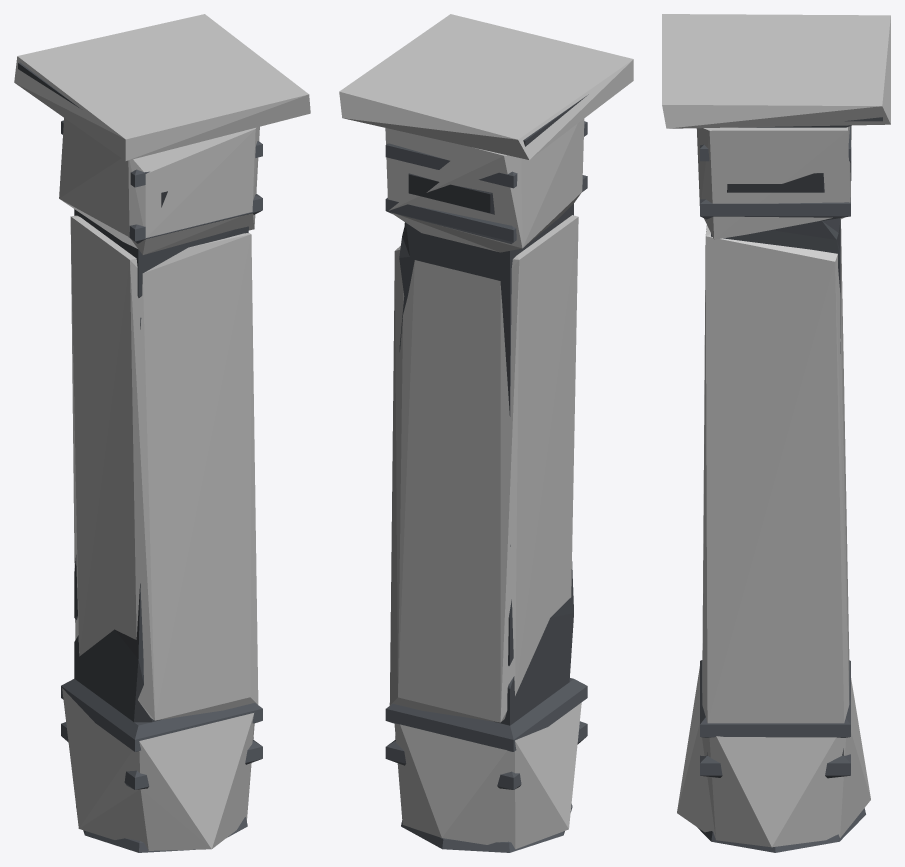
Rendered from SM_Bld_Pillar_01a.fbx.
3 renders of one model, left to right at view 1: azimuth 30°, elevation 25°; view 2: azimuth 150°, elevation 25°; view 3: azimuth 270°, elevation 25°, orthographic. The views are drawn at different scales.
Parts seen in each view (by area): view 1: SM_Bld_Pillar_01a_ConvexHulls, SM_Bld_Pillar_01a; view 2: SM_Bld_Pillar_01a_ConvexHulls, SM_Bld_Pillar_01a; view 3: SM_Bld_Pillar_01a_ConvexHulls, SM_Bld_Pillar_01a.
Boxes of the visible parts, box(x1,y1,x2,y2) form: SM_Bld_Pillar_01a_ConvexHulls: box(14, 14, 310, 850); SM_Bld_Pillar_01a: box(18, 62, 262, 852); SM_Bld_Pillar_01a_ConvexHulls: box(339, 14, 633, 849); SM_Bld_Pillar_01a: box(385, 94, 588, 852); SM_Bld_Pillar_01a_ConvexHulls: box(662, 14, 890, 847); SM_Bld_Pillar_01a: box(697, 117, 882, 852).
Size of the model in its own units: 81.33 by 82.91 by 302.
2 materials, 1 textured.
